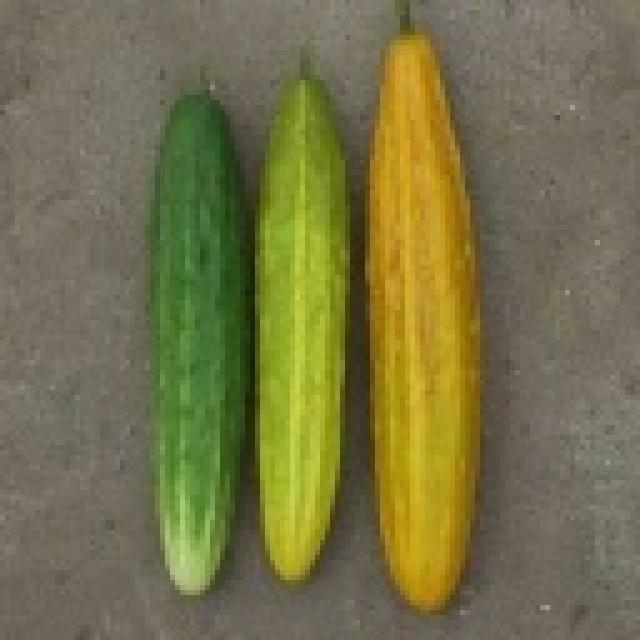Cucumber: (250, 74, 352, 585), (145, 91, 245, 595)
